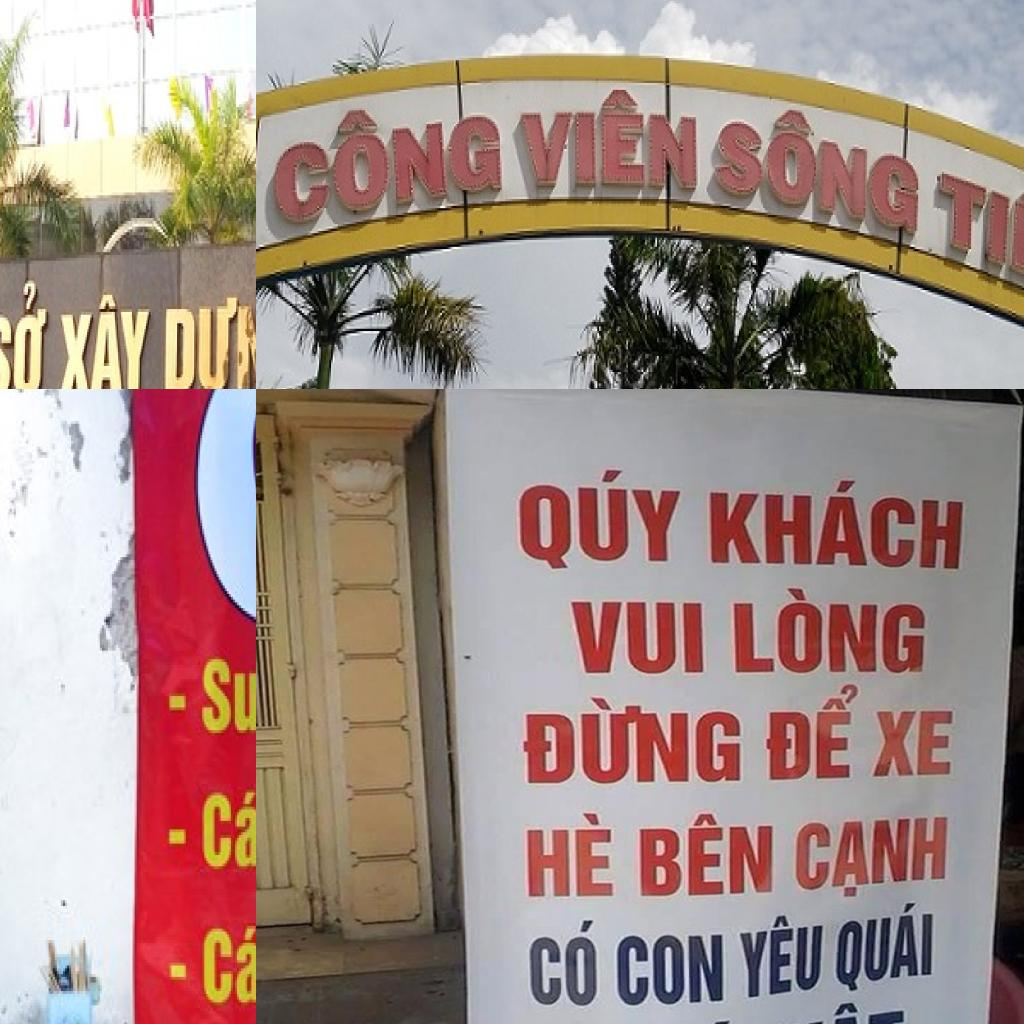text: (707, 92, 923, 245), (275, 83, 505, 226), (709, 480, 967, 571), (516, 88, 702, 194), (522, 697, 742, 784), (732, 587, 928, 675), (515, 470, 685, 570), (793, 816, 950, 900), (638, 812, 776, 899), (570, 600, 706, 674), (57, 286, 152, 389), (835, 897, 933, 996), (159, 289, 256, 389), (766, 683, 862, 781), (616, 934, 725, 1008), (736, 912, 825, 1000), (526, 812, 615, 898), (528, 919, 600, 1009), (200, 639, 256, 741), (0, 278, 51, 389), (872, 709, 954, 778), (200, 787, 256, 872), (204, 920, 256, 1008), (780, 994, 908, 1024)
